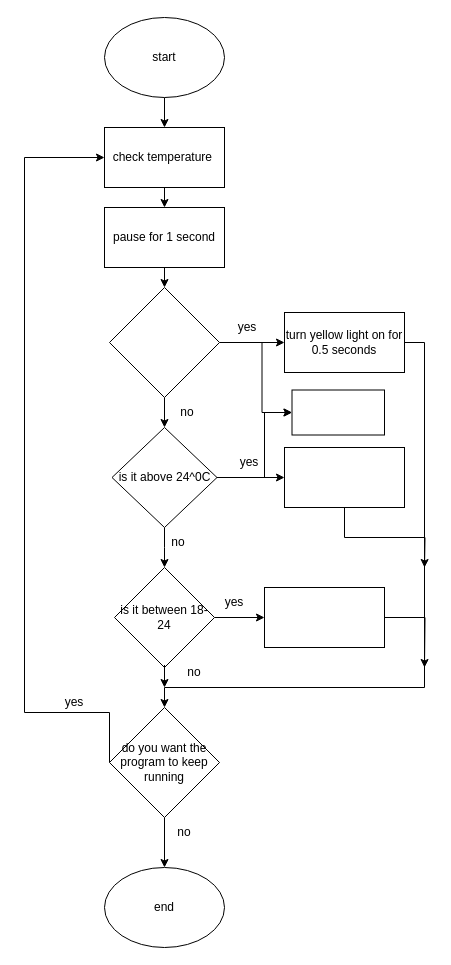
Image size: 451x965. Some labels were removed from this diagram. The box of each missing label's shape, as (x1, y1, x2, y2) in pixels:
is it below 18^0C: (108, 286, 220, 398)
turn green light off: (291, 389, 384, 435)
turn green light on: (264, 586, 384, 648)
turn red light on for 0.25 seconds: (284, 446, 404, 508)
